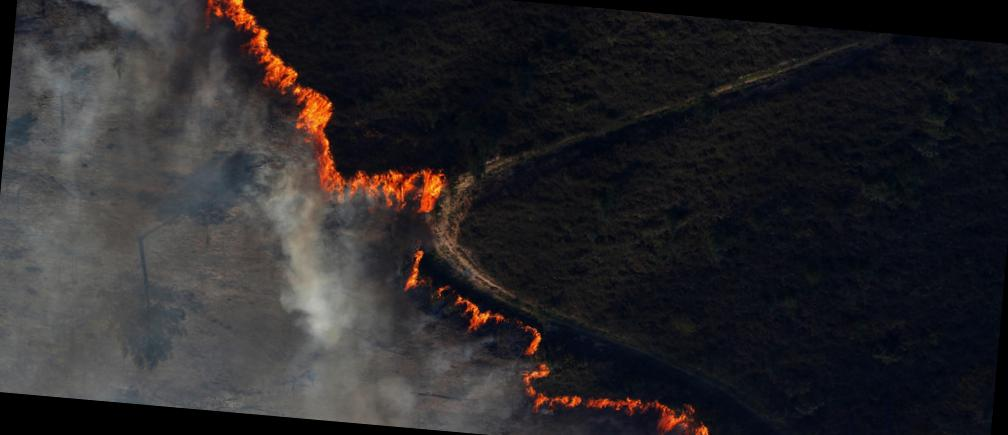fire: (190, 0, 299, 87), (282, 87, 362, 200), (349, 164, 444, 220), (442, 296, 519, 334), (559, 392, 647, 423), (653, 405, 713, 435), (398, 248, 426, 296), (526, 358, 553, 406), (522, 318, 548, 362)
